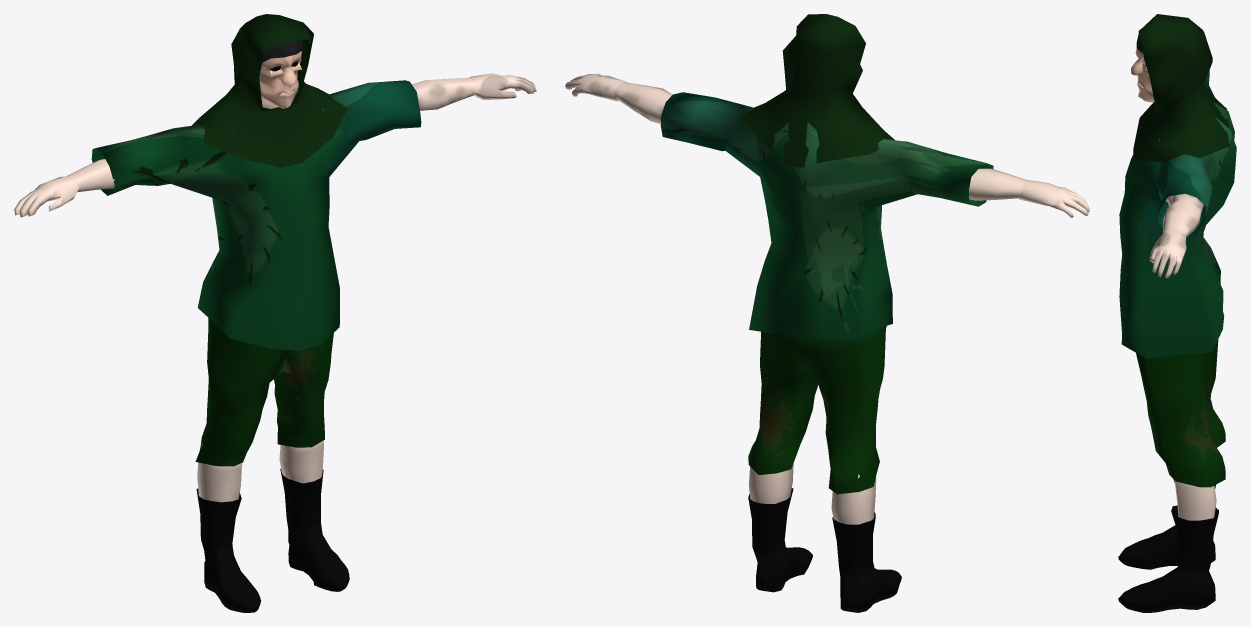
The model's file is Villager1.fbx.
3 views of the same model, side by side, from view 1: azimuth 30°, elevation 25°; view 2: azimuth 150°, elevation 25°; view 3: azimuth 270°, elevation 25° (orthographic).
Visible parts, largest first — view 1: Male_Villager1_Shirt, Male_Villager1_Pants, Male_Villager1_Hood, Villager1_Right_Boot, Villager1_Left_Boot, Male_Villager1_Right_Arm_Part_2, Male_Villager1_Left_Arm_Part_3, Male_Villager1_Head, Villager_1_Left_Leg_Part_2, Villager1_Right_Leg_Part_2; view 2: Male_Villager1_Shirt, Male_Villager1_Pants, Male_Villager1_Hood, Villager1_Left_Boot, Villager1_Right_Boot, Male_Villager1_Left_Arm_Part_3, Male_Villager1_Right_Arm_Part_2, Villager_1_Left_Leg_Part_2, Villager1_Right_Leg_Part_2; view 3: Male_Villager1_Shirt, Male_Villager1_Hood, Male_Villager1_Pants, Villager1_Right_Boot, Male_Villager1_Right_Arm_Part_2, Villager1_Left_Boot, Villager1_Right_Leg_Part_2, Male_Villager1_Head.
Part boxes in pixels (box(x1,y1,x2,y2)): Male_Villager1_Shirt: box(91, 80, 421, 350); Male_Villager1_Pants: box(195, 318, 333, 466); Male_Villager1_Hood: box(192, 14, 347, 167); Villager1_Right_Boot: box(280, 468, 349, 591); Villager1_Left_Boot: box(196, 488, 260, 612); Male_Villager1_Right_Arm_Part_2: box(412, 73, 536, 110); Male_Villager1_Left_Arm_Part_3: box(14, 159, 114, 217); Male_Villager1_Head: box(259, 51, 302, 108); Villager_1_Left_Leg_Part_2: box(197, 443, 242, 502); Villager1_Right_Leg_Part_2: box(279, 440, 323, 483); Male_Villager1_Shirt: box(660, 92, 993, 340); Male_Villager1_Pants: box(748, 326, 886, 494); Male_Villager1_Hood: box(740, 14, 894, 167); Villager1_Left_Boot: box(832, 512, 901, 612); Villager1_Right_Boot: box(748, 488, 812, 592); Male_Villager1_Left_Arm_Part_3: box(969, 168, 1089, 217); Male_Villager1_Right_Arm_Part_2: box(565, 73, 672, 123); Villager_1_Left_Leg_Part_2: box(831, 474, 876, 524); Villager1_Right_Leg_Part_2: box(749, 463, 793, 503); Male_Villager1_Shirt: box(1119, 70, 1236, 358); Male_Villager1_Hood: box(1133, 14, 1229, 162); Male_Villager1_Pants: box(1136, 339, 1225, 487); Villager1_Right_Boot: box(1118, 505, 1218, 612); Male_Villager1_Right_Arm_Part_2: box(1149, 193, 1203, 278); Villager1_Left_Boot: box(1118, 479, 1215, 569); Villager1_Right_Leg_Part_2: box(1174, 480, 1216, 520); Male_Villager1_Head: box(1131, 49, 1154, 102).
Size of the model in its own units: 193 by 200 by 38.19.
